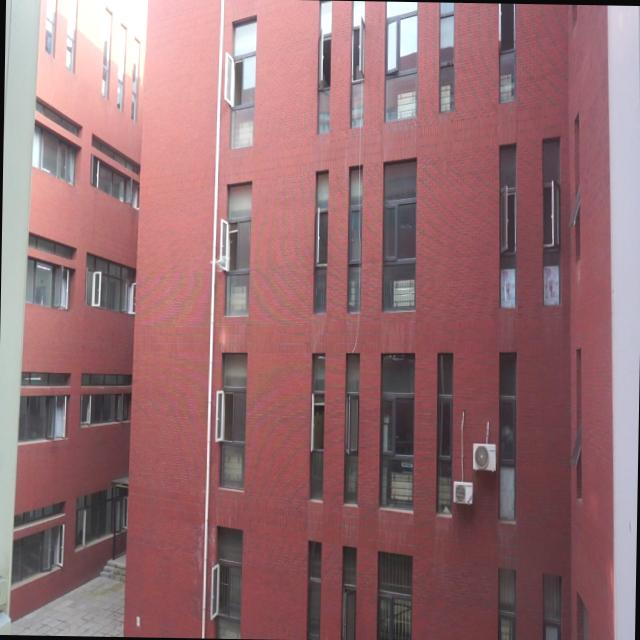drone: (210, 250, 230, 273)
